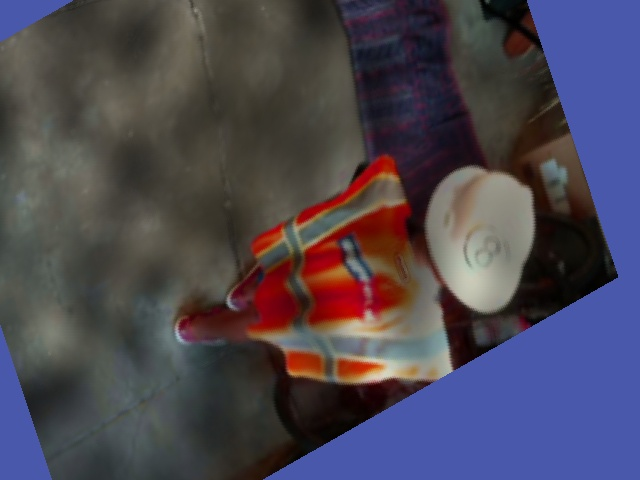eight: (456, 213, 519, 293)
